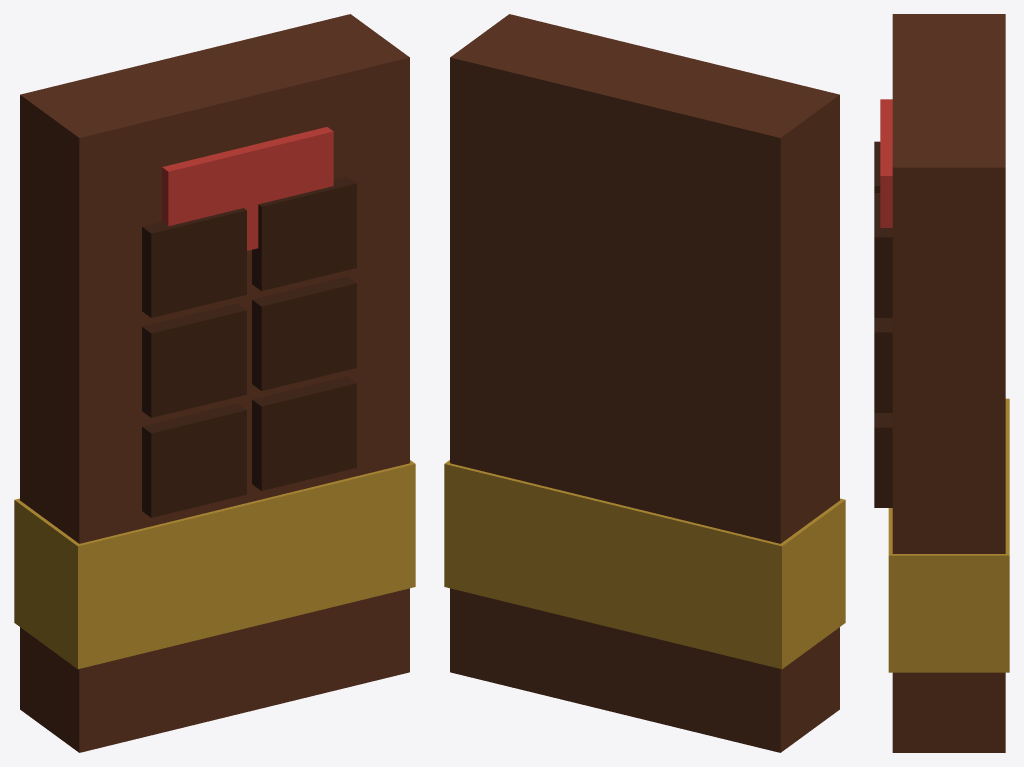
File: hh_socola.glb
The picture shows the model from 3 angles, left to right: view 1: azimuth 30°, elevation 25°; view 2: azimuth 150°, elevation 25°; view 3: azimuth 270°, elevation 25°; orthographic projection. The views are drawn at different scales.
Visible parts, largest first — view 1: hh_socola; view 2: hh_socola; view 3: hh_socola.
Part boxes in pixels (left/top/right/bottom): hh_socola: left=14, top=14, right=415, bottom=752; hh_socola: left=444, top=14, right=845, bottom=752; hh_socola: left=874, top=14, right=1009, bottom=752.
Bounding box in the file's own units: 0.092 × 0.16 × 0.0335.
